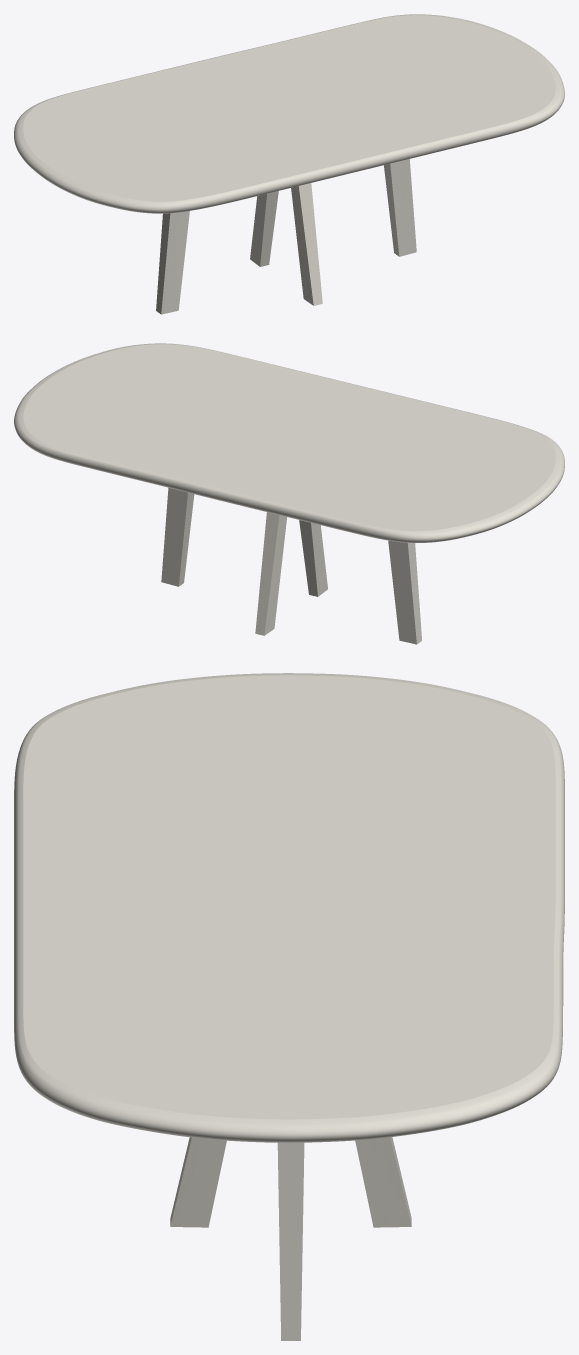
The model's file is pale_oval_round_searwalnut.glb.
3 views of the same model, one above another, from view 1: azimuth 30°, elevation 25°; view 2: azimuth 150°, elevation 25°; view 3: azimuth 270°, elevation 25° (orthographic). The views are drawn at different scales.
Visible parts, largest first — view 1: round_oval, searwalnut; view 2: round_oval, searwalnut; view 3: round_oval, searwalnut.
Boxes of the visible parts, bbox=[...] form: round_oval: bbox=[14, 14, 564, 213]; searwalnut: bbox=[156, 159, 416, 314]; round_oval: bbox=[14, 343, 564, 542]; searwalnut: bbox=[161, 487, 421, 644]; round_oval: bbox=[14, 673, 564, 1142]; searwalnut: bbox=[170, 1137, 411, 1340].
Size of the model in its own units: 7.5 by 2.5 by 3.8.
Materials: 1 (1 with a texture image).
